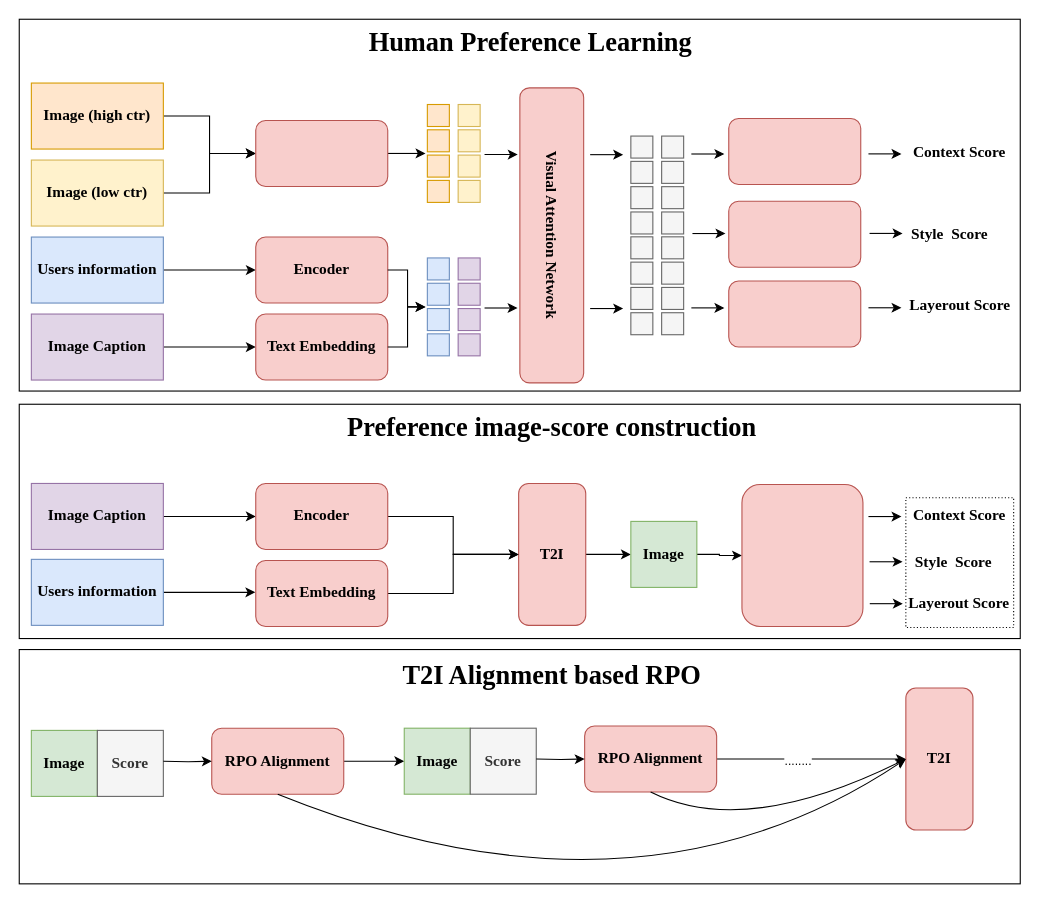
This 1040x903 diagram has some shape labels left out. The centre of each missing label's shape, as x and y in pixels:
Conv, linear layers: the point at 794,233
HPL: the point at 802,554
Mask multi-head attention: the point at 794,313
T5X decoder: the point at 794,150
ViT: the point at 321,152
